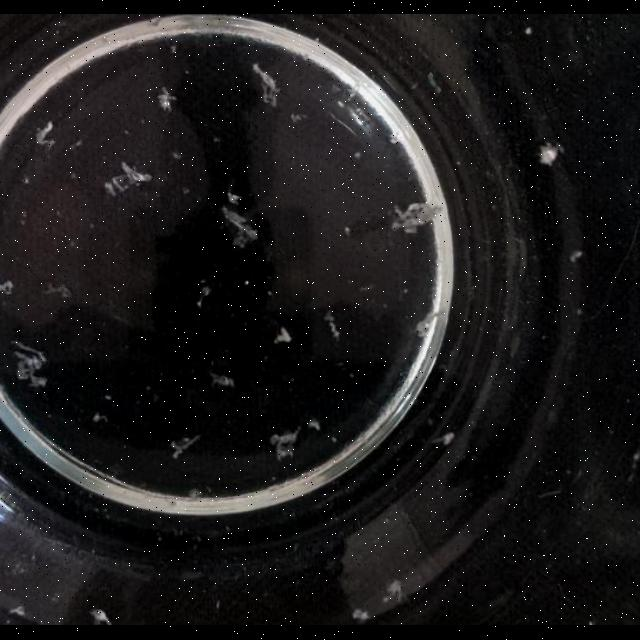Fibre: (104, 160, 154, 198), (10, 344, 50, 388), (391, 202, 442, 234), (222, 206, 260, 248), (508, 220, 528, 290), (270, 430, 300, 462), (169, 434, 201, 460), (414, 312, 440, 341), (34, 120, 56, 154), (322, 310, 342, 342), (157, 86, 177, 114), (42, 282, 72, 300), (538, 143, 560, 167), (383, 581, 403, 605), (208, 372, 234, 388), (272, 326, 292, 344), (90, 610, 112, 626), (432, 431, 454, 447), (196, 286, 212, 308), (352, 608, 371, 624), (290, 112, 306, 124), (570, 250, 582, 264), (227, 192, 241, 204), (308, 418, 320, 432), (92, 412, 106, 423)
microbeads: (524, 26, 532, 36), (344, 227, 351, 237), (353, 152, 361, 160), (22, 177, 30, 185), (105, 395, 112, 401), (243, 280, 249, 286)
